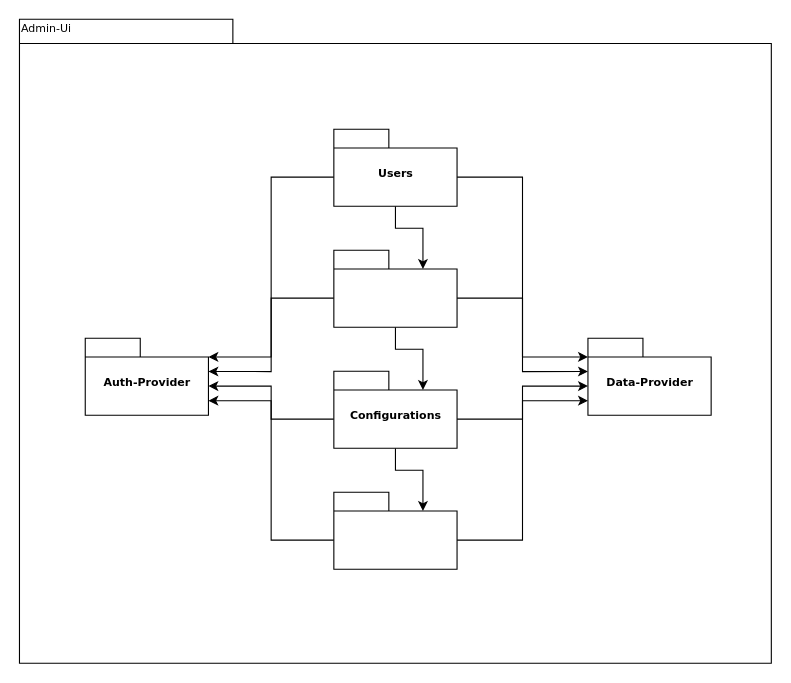
Image size: 791x683. Some labels were removed from this diagram. The shapes that lost their labels are listed below. From the top down, each one's centre as x and y in pixels, then its label:
point (395, 288): Clients
point (395, 530): Notification-Types
